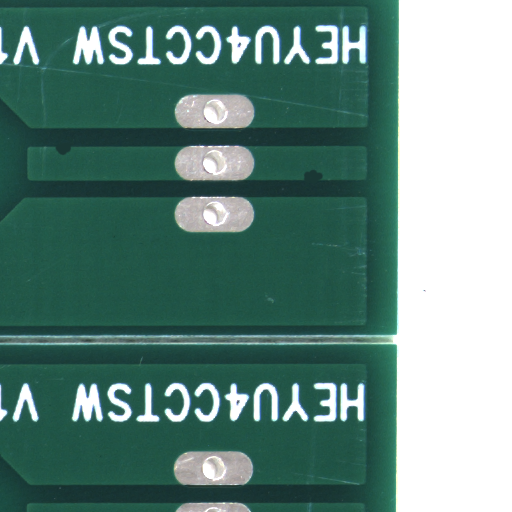Mouse_bite: (314, 175, 333, 186), (64, 151, 78, 161)
